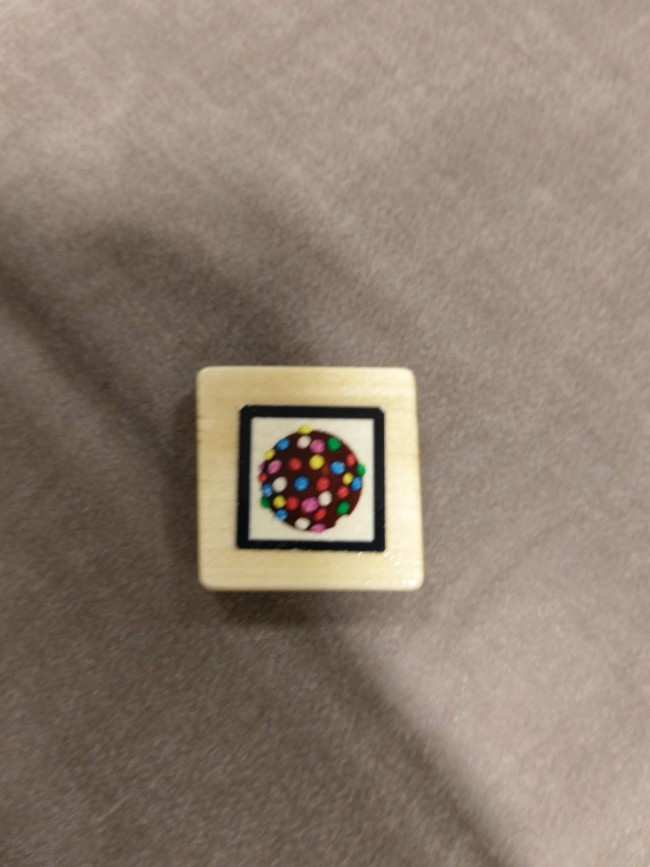cookie: (245, 413, 380, 546)
